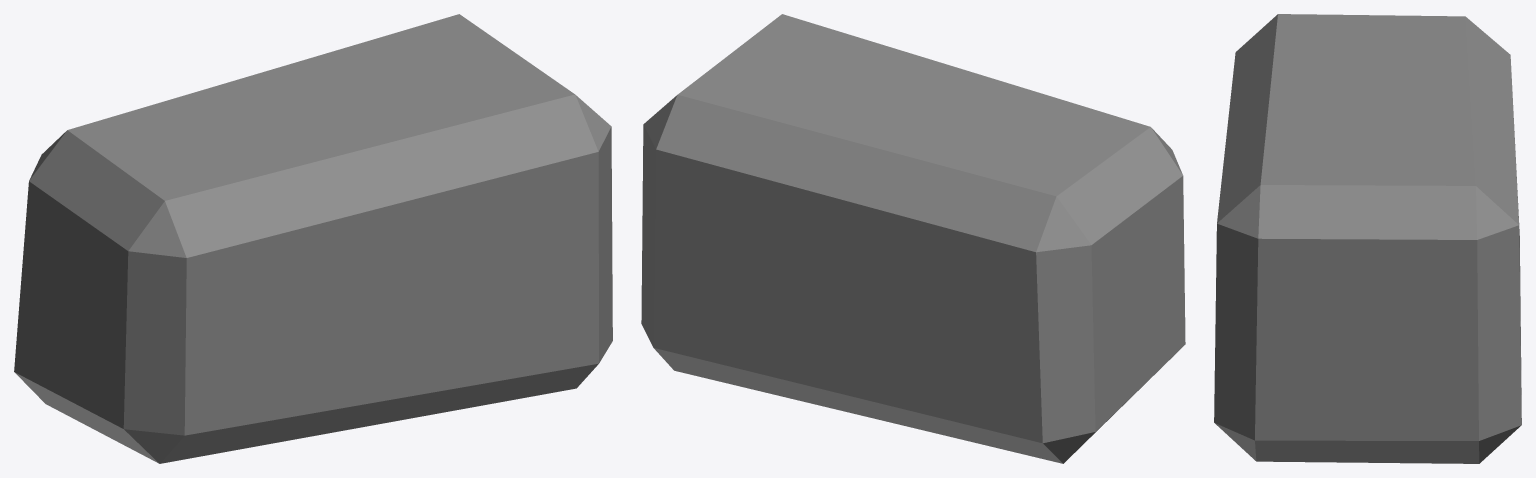
File: Brick_Single_02.fbx
The picture shows the model from 3 angles, left to right: view 1: azimuth 30°, elevation 25°; view 2: azimuth 150°, elevation 25°; view 3: azimuth 270°, elevation 25°; orthographic projection. The views are drawn at different scales.
Parts seen in each view (by area): view 1: Brick_Single_02; view 2: Brick_Single_02; view 3: Brick_Single_02.
Part boxes in pixels (left/top/right/bottom): Brick_Single_02: left=14, top=14, right=612, bottom=463; Brick_Single_02: left=641, top=14, right=1185, bottom=463; Brick_Single_02: left=1214, top=14, right=1521, bottom=463.
Size of the model in its own units: 36.9 by 21.55 by 21.52.
